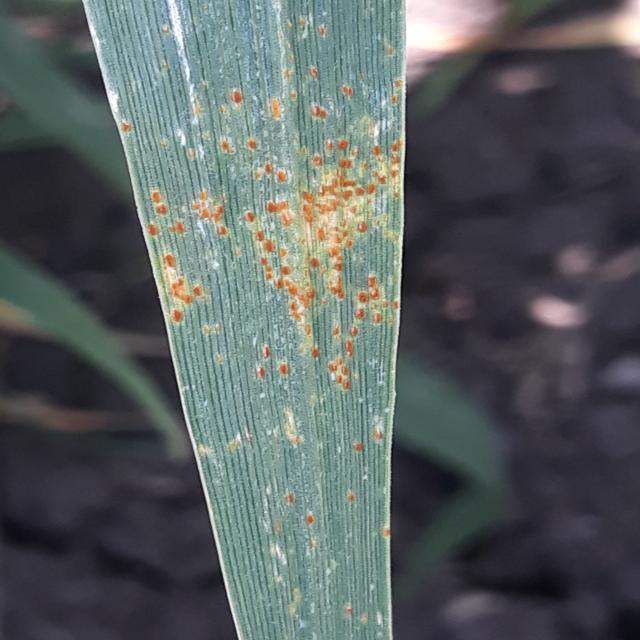orang_rust: (77, 0, 434, 640)
